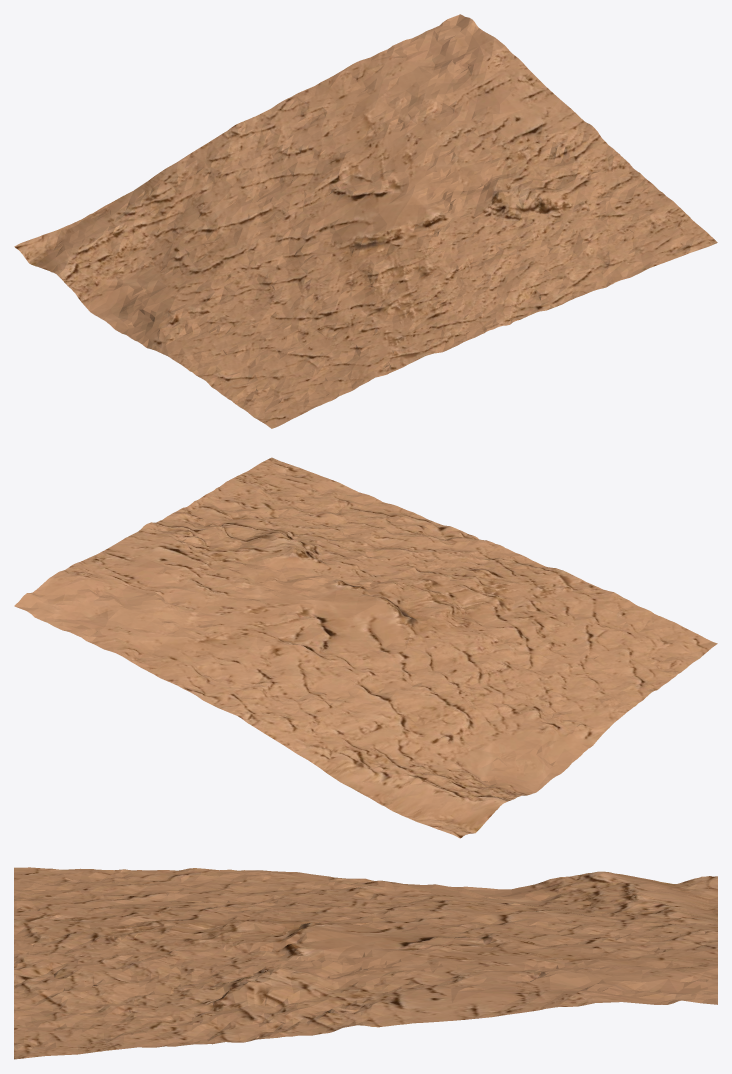
3 views of the same model, one above another, from view 1: azimuth 30°, elevation 25°; view 2: azimuth 150°, elevation 25°; view 3: azimuth 270°, elevation 25° (orthographic). The views are drawn at different scales.
Size of the model in its own units: 2.09 by 0.6117 by 2.09.
Materials: 2 (2 with a texture image).
